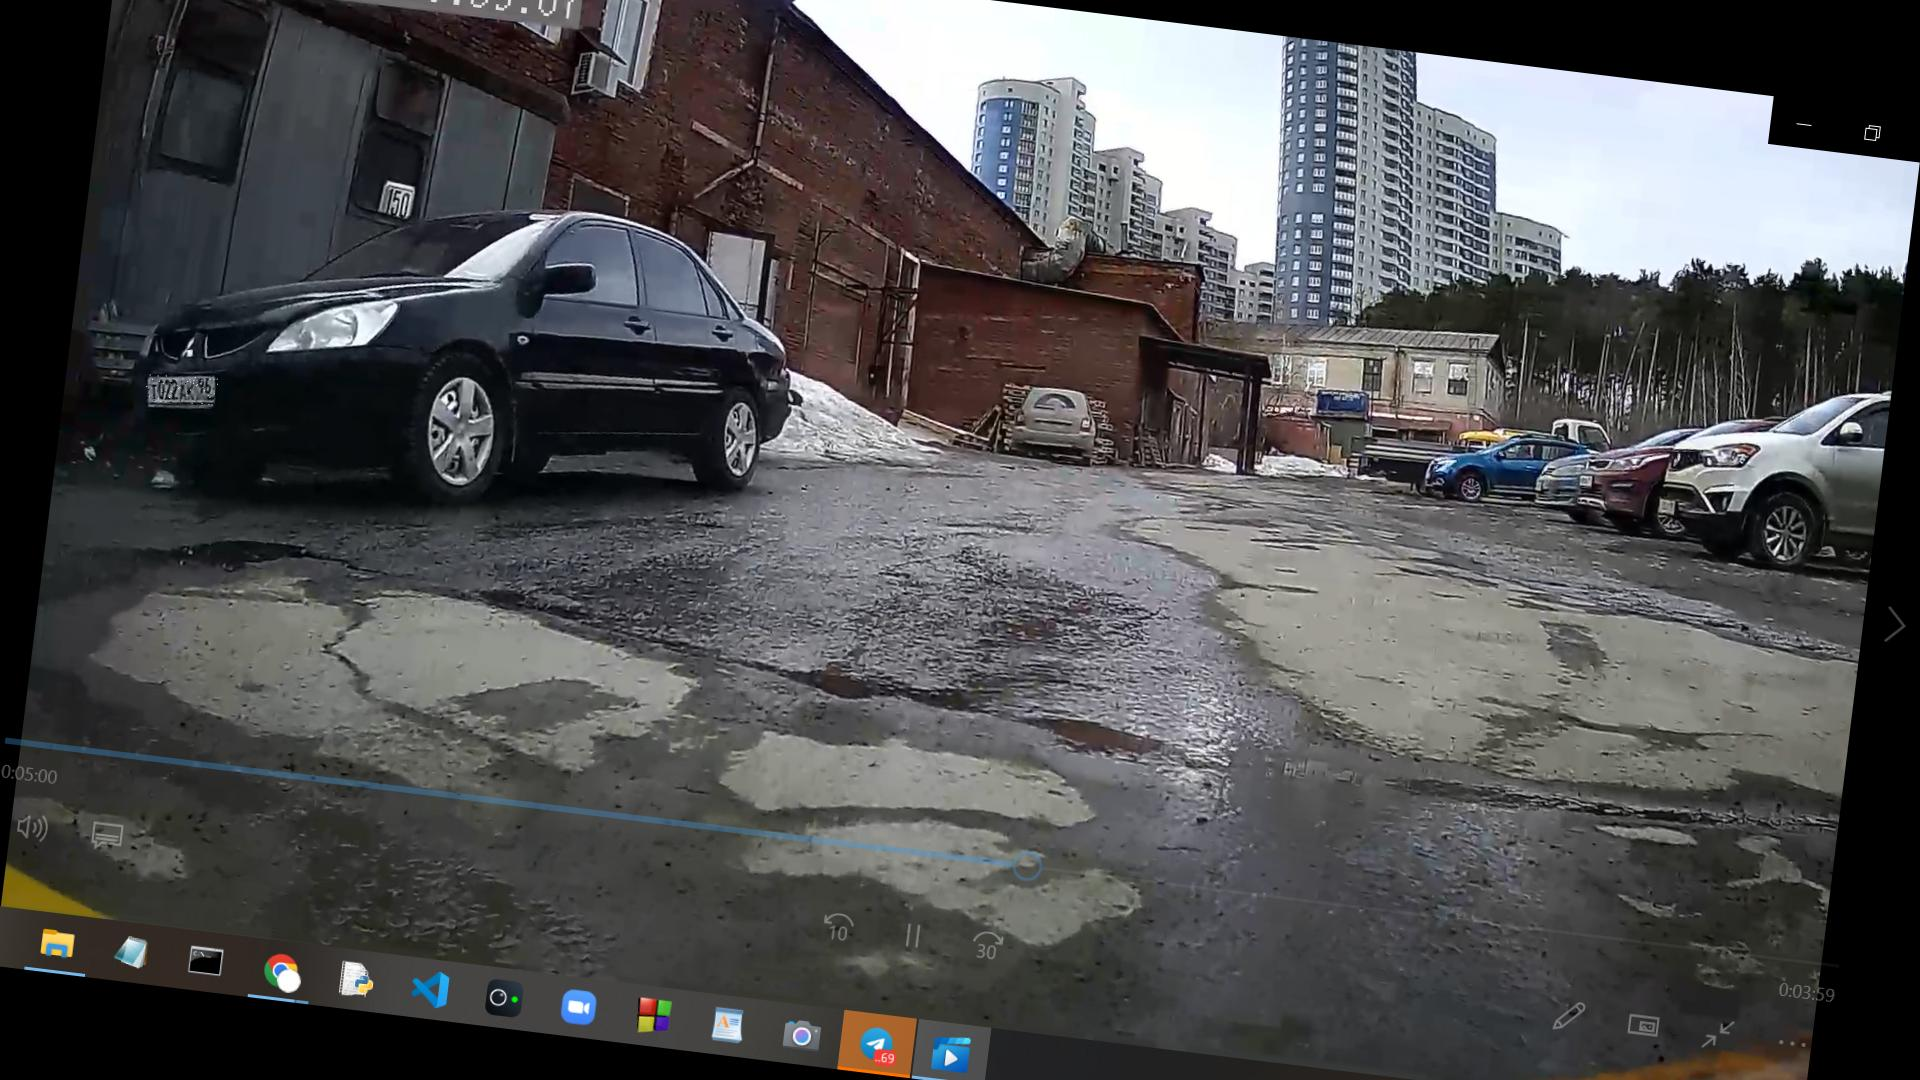plate: (145, 371, 220, 410)
